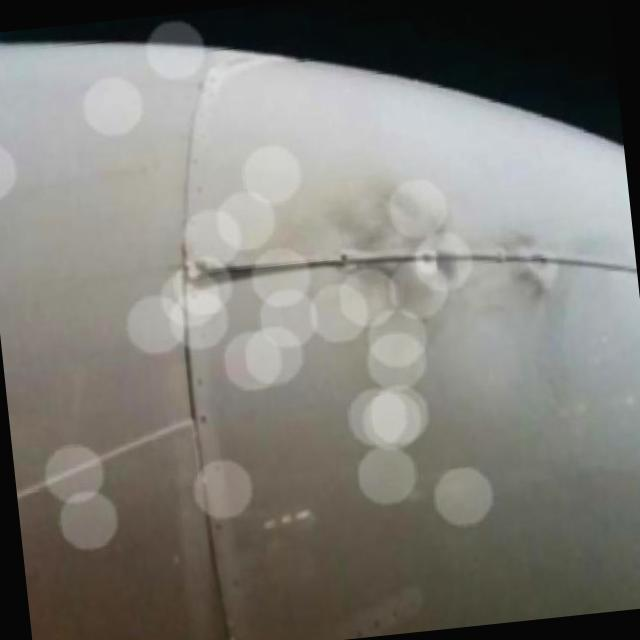crack: (182, 251, 344, 290)
